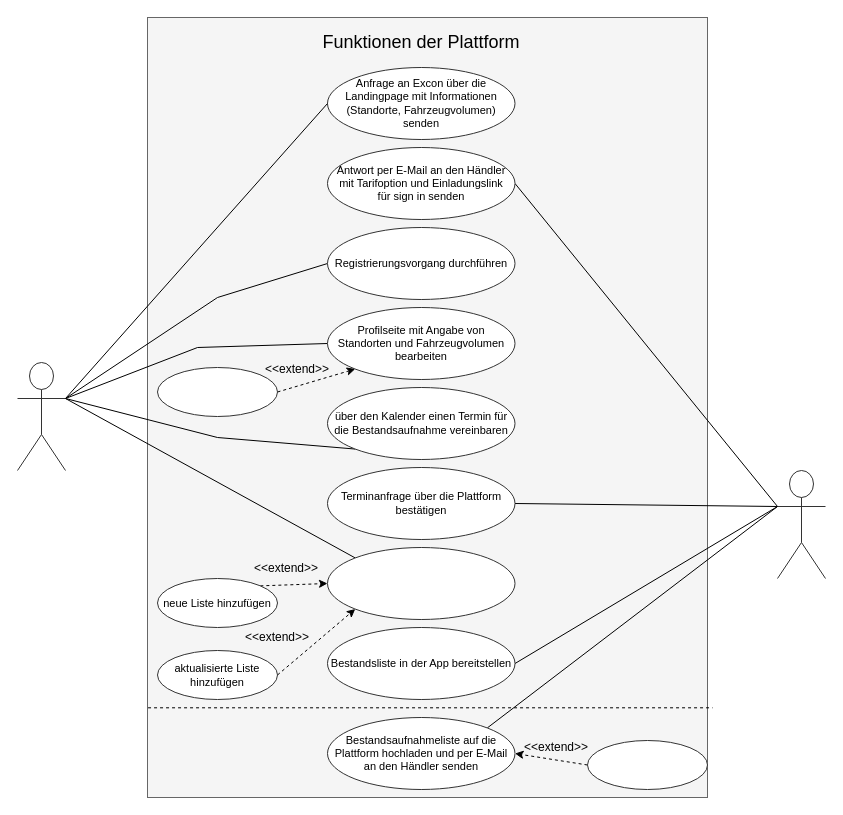
Some shapes in this 843 by 815 pixel diagram are drawn without their labels. Here are the shapes that lost their labels. From the top down, the box of each, then its label:
(156, 366, 278, 416): Mitarbeiter hinzufügen
(16, 362, 66, 470): Händler
(776, 470, 826, 578): Excon
(326, 546, 515, 620): eigene Bestandsliste vor der Bestandsaufnahme auf die Plattform hochladen
(586, 740, 708, 790): Soll-/Ist-Abgleich
